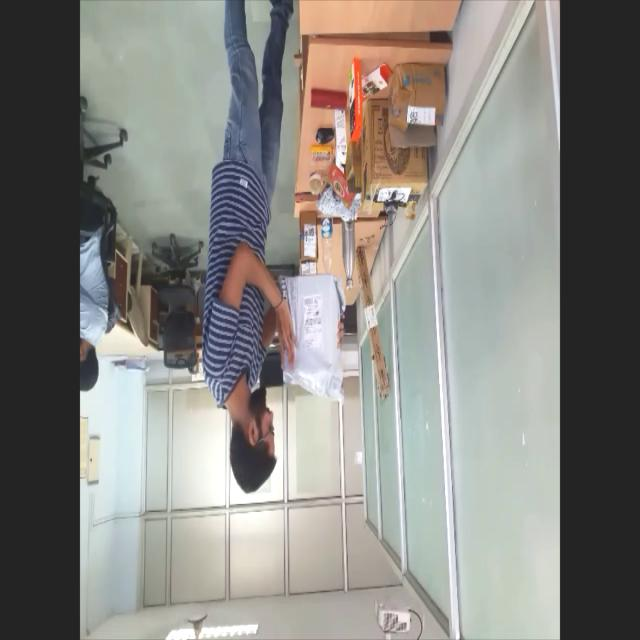normal: (199, 1, 346, 494)
